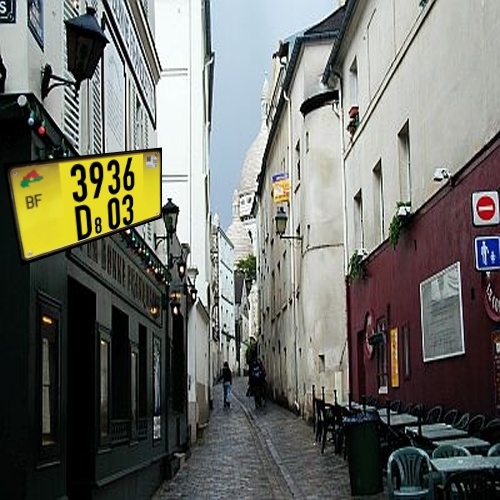plate: (4, 134, 183, 265)
